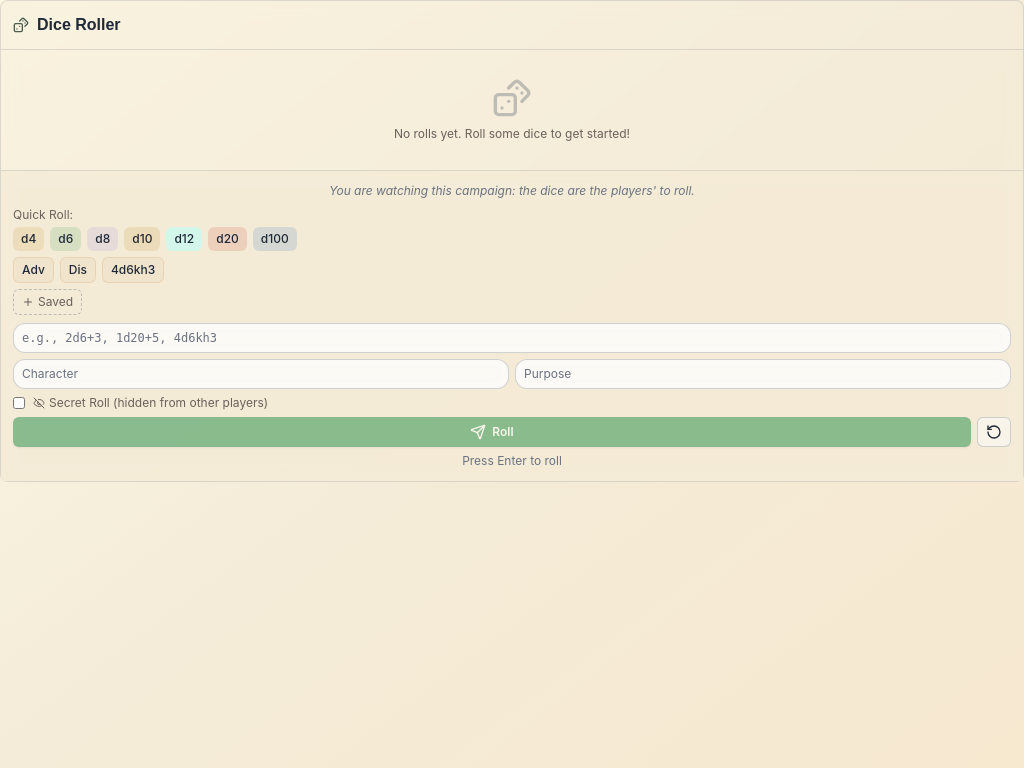
Scenario: DiceRoller for a spectator › says the dice are not theirs, and sends nothing when they try
The image size is (1024, 768).
Expected: the text "You are watching this campaign" is shown, top-left (329, 183), bottom-right (695, 198)
Type "1d20" into the field with placeholder "e.g., 2d6+3, 1d20+5, 4d6kh3". click: (512, 338)
box: top-left (13, 323), bottom-right (1011, 353)
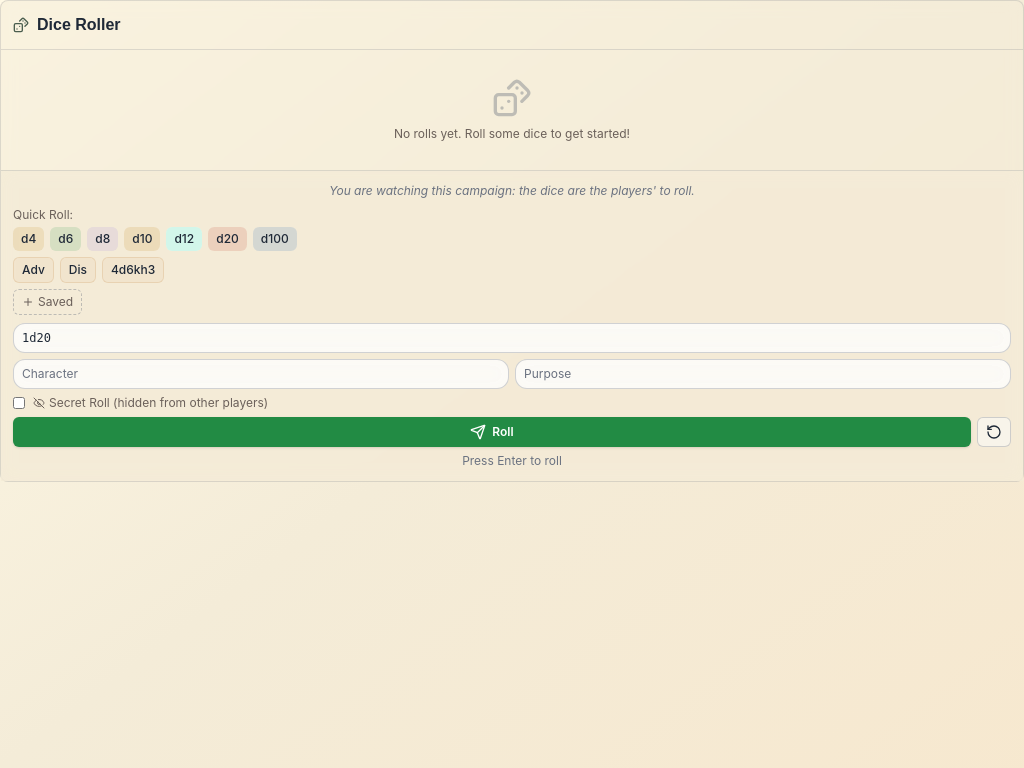
Click the button "Roll". click: (492, 432)
box: top-left (13, 417), bottom-right (971, 447)
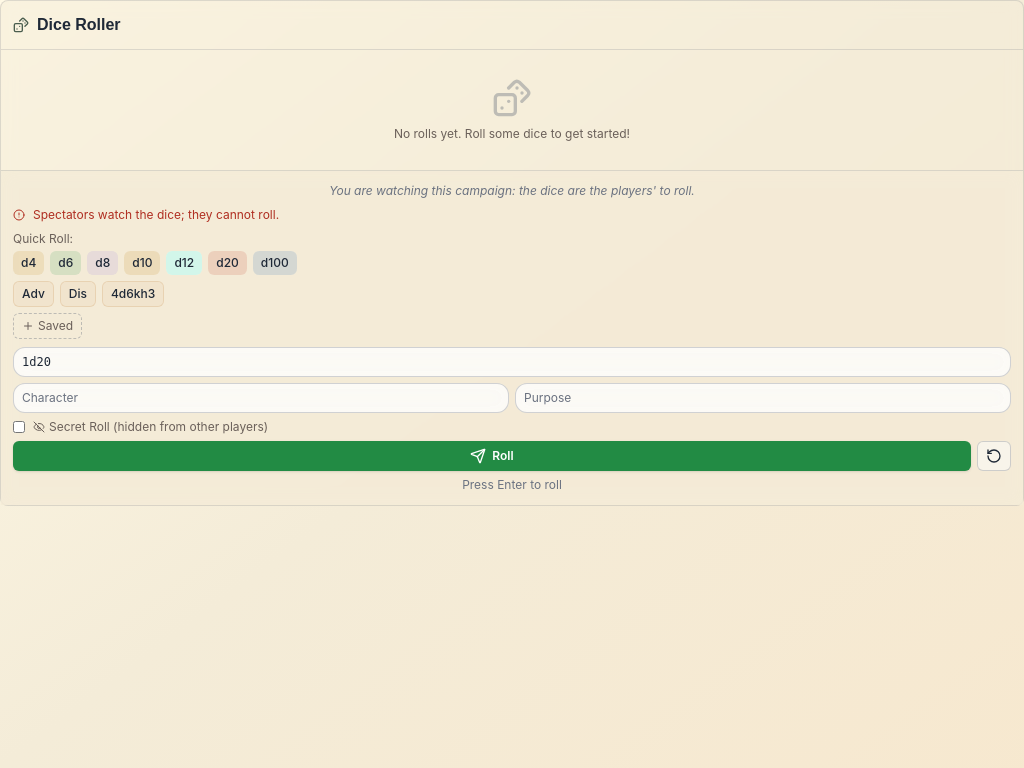
Expected: the text "Spectators watch the dice; they cannot roll." is shown, top-left (33, 207), bottom-right (279, 223)
